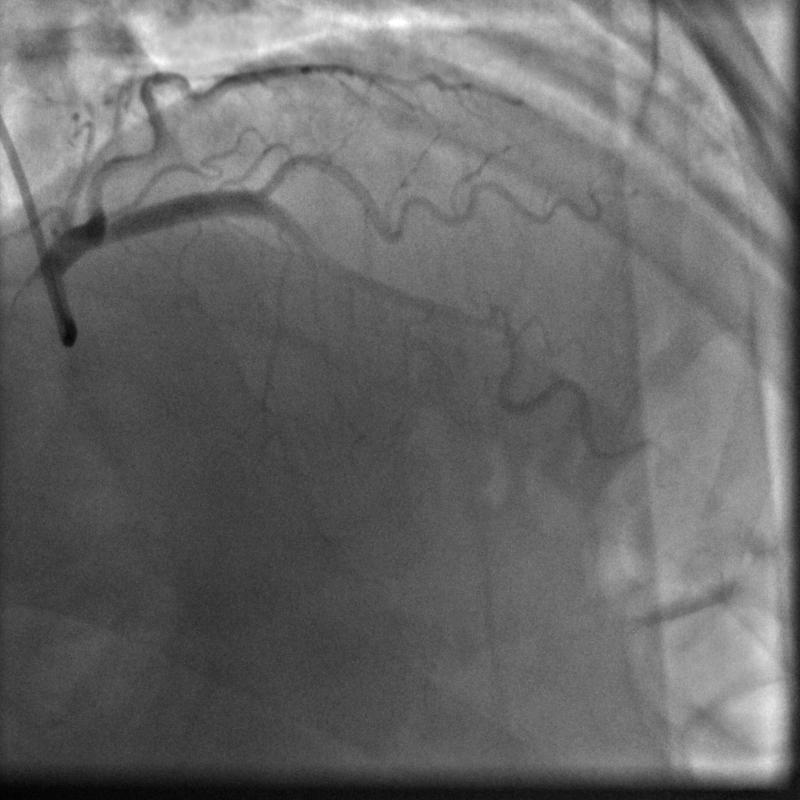Stenosis: (469, 310, 520, 340)
